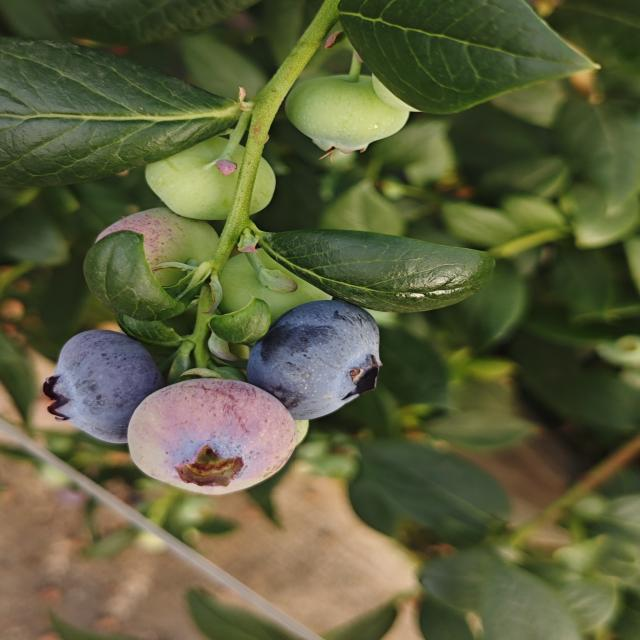ripe: (31, 306, 168, 449), (238, 300, 393, 426)
